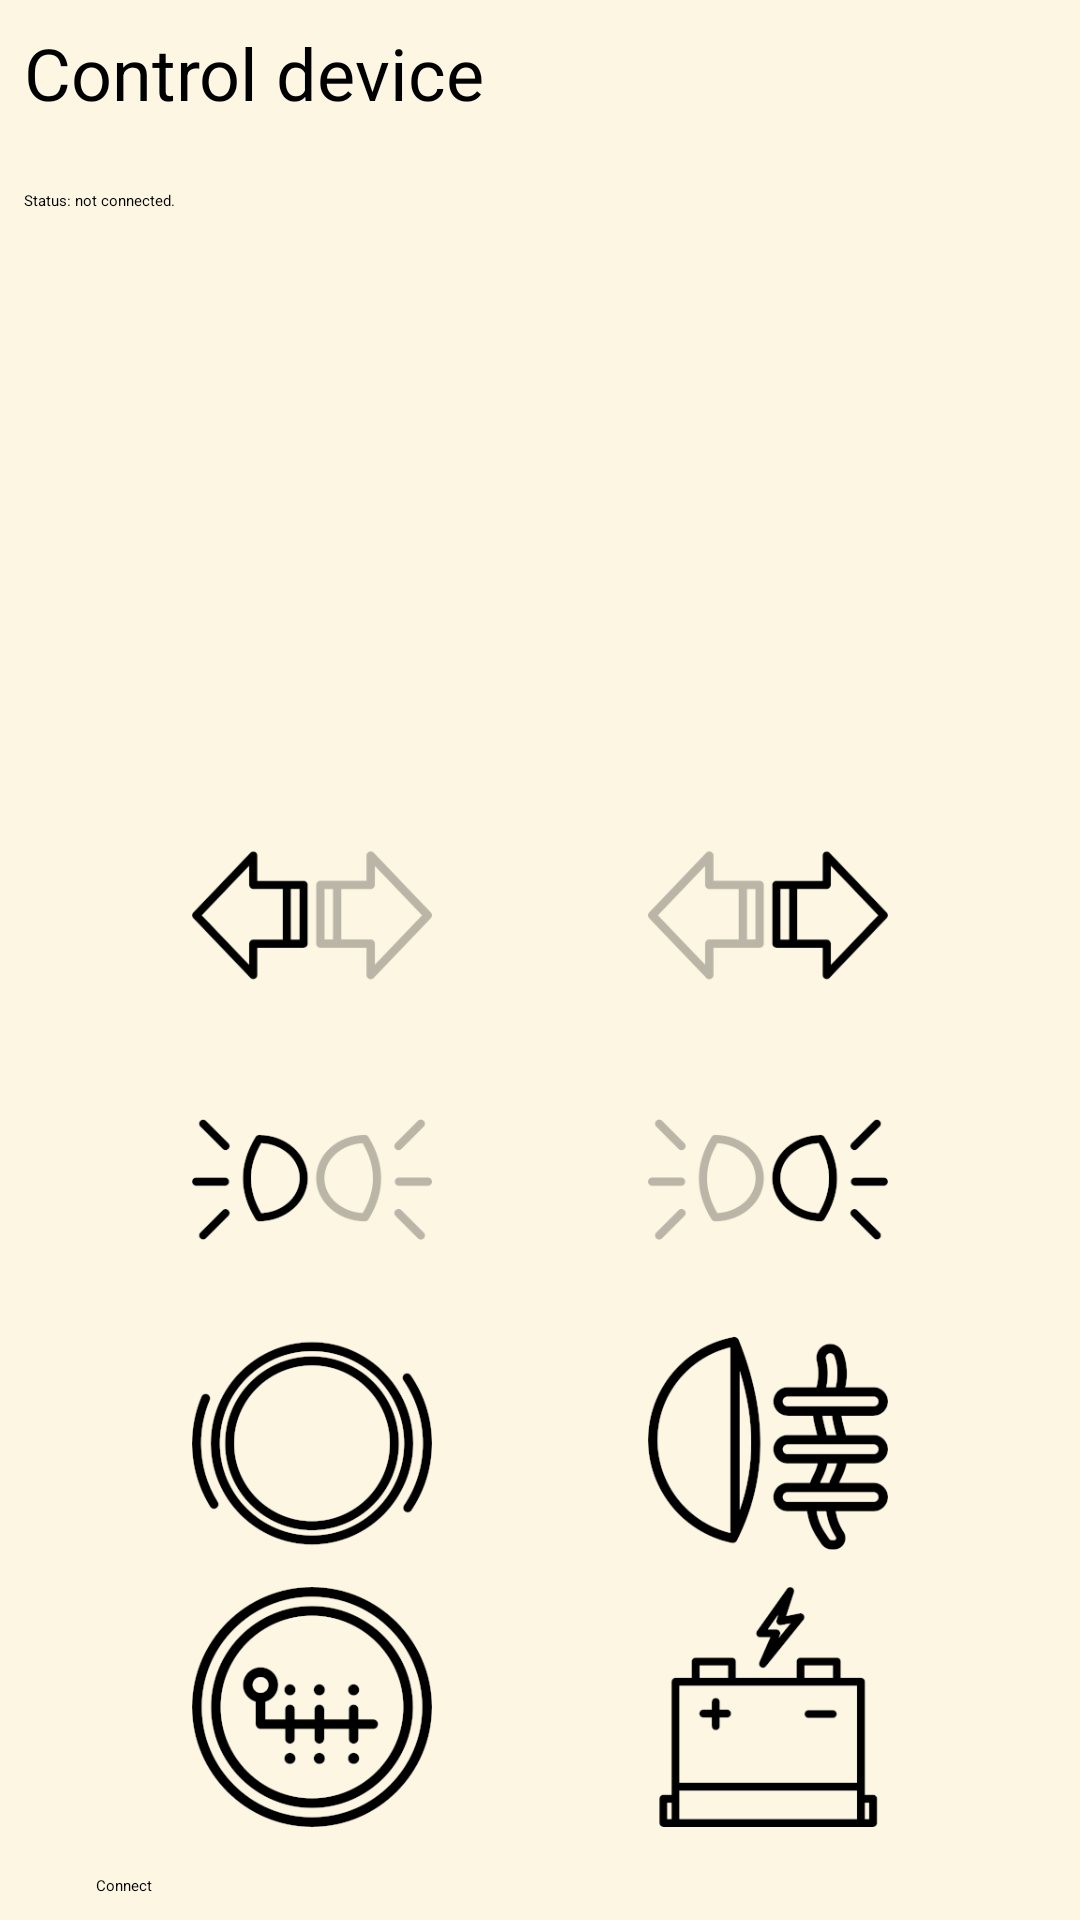

Named icons in this screenshot (1080 × 1920) and their bounding boxes, bbox=[x1, y1, x2, y2]:
Battery: bbox=[659, 1587, 878, 1827]
Brakes light: bbox=[192, 1342, 432, 1545]
Left parking light: bbox=[192, 1119, 432, 1240]
Left turn indicator: bbox=[192, 851, 432, 980]
Rear fog light: bbox=[648, 1337, 888, 1550]
Reverse gear light: bbox=[192, 1587, 432, 1827]
Right parking light: bbox=[648, 1119, 888, 1240]
Right turn indicator: bbox=[648, 851, 888, 980]
